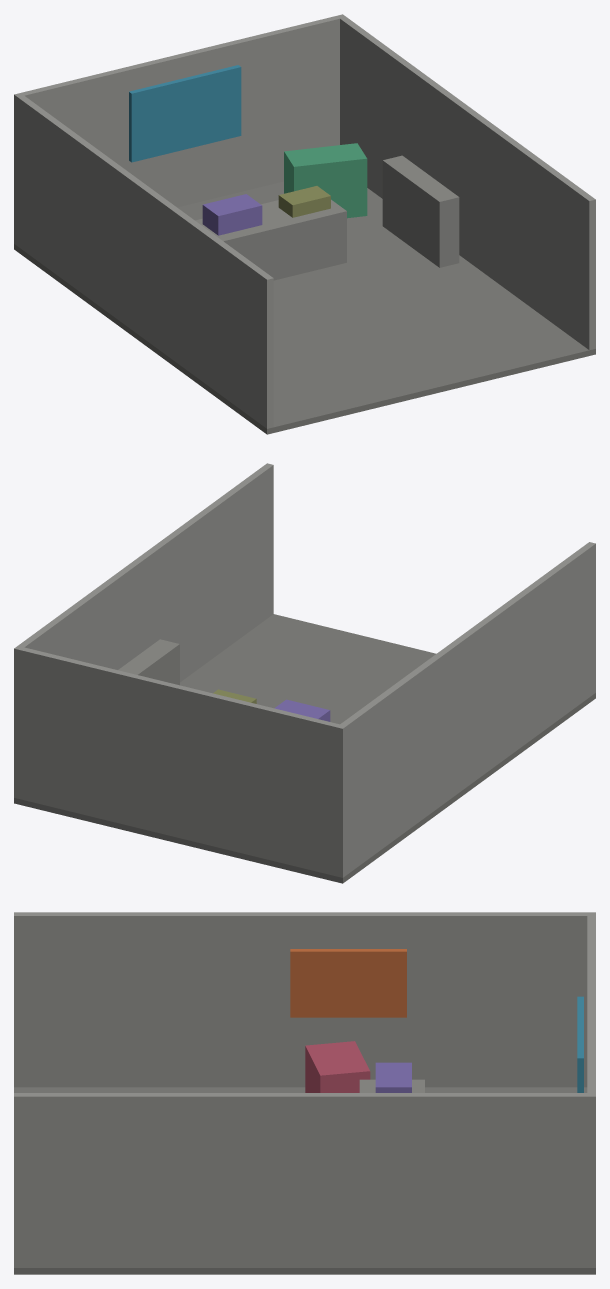
The model's file is hub-greybox.glb.
3 views of the same model, one above another, from view 1: azimuth 30°, elevation 25°; view 2: azimuth 150°, elevation 25°; view 3: azimuth 270°, elevation 25° (orthographic). The views are drawn at different scales.
Parts seen in each view (by area): view 1: SM_Hub_Floor, SM_Hub_Wall_W, SM_Hub_Wall_E, SM_Hub_Wall_N, SM_Tool_circuit, SM_Hub_Workbench, SM_Hub_PlateShelf, SM_Tool_alignment, SM_Tool_reader, SM_Tool_seal; view 2: SM_Hub_Wall_N, SM_Hub_Wall_W, SM_Hub_Wall_E, SM_Hub_Floor, SM_Hub_PlateShelf, SM_Tool_reader; view 3: SM_Hub_Wall_E, SM_Hub_Wall_W, SM_Tool_routing, SM_Hub_Floor, SM_Hub_Wall_N, SM_Tool_corrosion, SM_Tool_reader, SM_Tool_circuit.
Part boxes in pixels (box(x1,y1,x2,y2)): SM_Hub_Floor: box(14, 181, 595, 434); SM_Hub_Wall_W: box(14, 94, 273, 428); SM_Hub_Wall_E: box(338, 15, 595, 350); SM_Hub_Wall_N: box(14, 14, 345, 245); SM_Tool_circuit: box(129, 65, 241, 162); SM_Hub_Workbench: box(195, 199, 346, 280); SM_Hub_PlateShelf: box(382, 155, 459, 267); SM_Tool_alignment: box(284, 143, 367, 218); SM_Tool_reader: box(202, 194, 262, 235); SM_Tool_seal: box(278, 186, 330, 217); SM_Hub_Wall_N: box(14, 646, 346, 877); SM_Hub_Wall_W: box(337, 542, 595, 877); SM_Hub_Wall_E: box(14, 463, 273, 798); SM_Hub_Floor: box(14, 614, 595, 883); SM_Hub_PlateShelf: box(118, 639, 179, 685); SM_Tool_reader: box(274, 699, 330, 721); SM_Hub_Wall_E: box(14, 1093, 595, 1267); SM_Hub_Wall_W: box(14, 912, 595, 1087); SM_Tool_routing: box(290, 949, 406, 1017); SM_Hub_Floor: box(14, 1087, 595, 1274); SM_Hub_Wall_N: box(587, 912, 595, 1267); SM_Tool_corrosion: box(305, 1041, 370, 1092); SM_Tool_reader: box(375, 1062, 411, 1092); SM_Tool_circuit: box(577, 996, 583, 1092).
Bounding box in the file's own units: 6 × 2.7 × 8.
